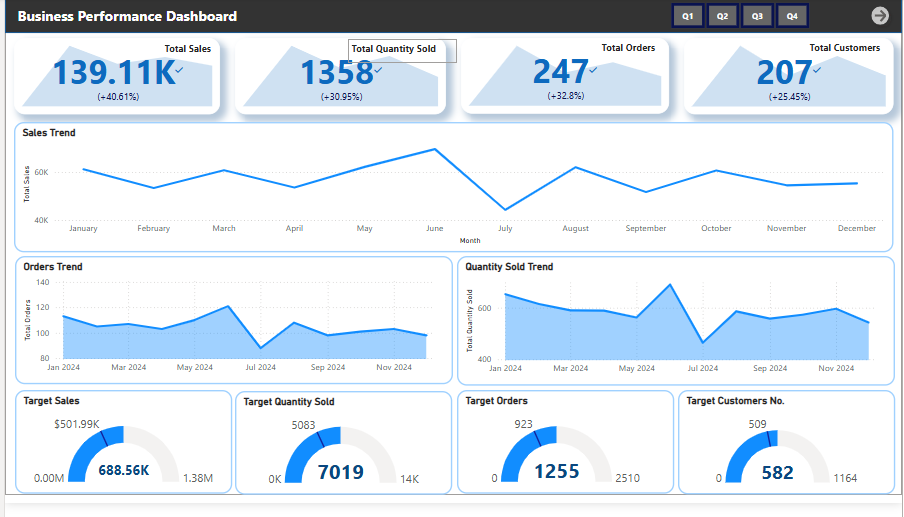

This screenshot's page, from the dashboard's own definition file:
{"tool":"powerbi","page":{"name":"KPI Page","canvas":[1280,720],"ordinal":0},"visuals":[{"type":"shape","box":[0,0,1280.1,65.9],"z":0,"group":"g6"},{"type":"kpi","fields":{"Indicator":["Sum(Sales data 2024.sales)"],"Goal":["Sum(Sales data 2023.Sales)"],"TrendLine":["Sales data 2024.product_category"]},"box":[9.8,74.4,286.8,120.8],"z":0,"group":"g2"},{"type":"kpi","fields":{"TrendLine":["Sales data 2024.product_category"],"Indicator":["Sum(Sales data 2024.quantity_sold)"],"Goal":["Sum(Sales data 2023.Quantity_Sold)"]},"box":[320,74.4,286.8,120.8],"z":0,"group":"g4"},{"type":"kpi","fields":{"TrendLine":["Sales data 2024.product_category"],"Indicator":["CountNonNull(Sales data 2024.order_id)"],"Goal":["CountNonNull(Sales data 2023.order_id)"]},"box":[630.3,74.4,286.8,120.8],"z":0,"group":"g3"},{"type":"kpi","fields":{"TrendLine":["Sales data 2024.product_category"],"Indicator":["Count(Sales data 2024.customer_id)"],"Goal":["Count(Sales data 2023.customer_id)"]},"box":[940.6,74.4,286.8,120.8],"z":0,"group":"g5"},{"type":"group","id":"g1","title":"Group 1","box":[9.8,74.4,286.8,120.8],"z":1000,"group":"g6"},{"type":"textbox","box":[412.7,76.3,181.8,26.8],"z":1000,"group":"g4"},{"type":"textbox","box":[172.8,77.8,112,28],"z":1000,"group":"g2"},{"type":"textbox","box":[785.9,77.8,118.7,29.3],"z":1000,"group":"g3"},{"type":"textbox","box":[1057.1,77.8,158.7,32],"z":1000,"group":"g5"},{"type":"group","id":"g2","title":"Group 2","box":[9.8,74.4,286.8,120.8],"z":1002,"group":"g1"},{"type":"group","id":"g3","title":"Group 2","box":[630.3,74.4,286.8,120.8],"z":2000,"group":"g6"},{"type":"group","id":"g4","title":"Group 2","box":[320,74.4,286.8,120.8],"z":3000,"group":"g6"},{"type":"group","id":"g5","title":"Group 2","box":[940.6,74.4,286.8,120.8],"z":4000,"group":"g6"},{"type":"areaChart","title":"Total Sales","fields":{"Category":["Sales data 2024.date.Variation.Date Hierarchy.Year","Sales data 2024.date.Variation.Date Hierarchy.Quarter","Sales data 2024.date.Variation.Date Hierarchy.Month","Sales data 2024.date.Variation.Date Hierarchy.Day"],"Y":["Sum(Sales data 2024.sales)"]},"box":[0,200,1270.7,146.7],"z":5000,"group":"g6"},{"type":"areaChart","title":"Total Orders Sold by months","fields":{"Category":["Sales data 2024.date.Variation.Date Hierarchy.Year","Sales data 2024.date.Variation.Date Hierarchy.Quarter","Sales data 2024.date.Variation.Date Hierarchy.Month","Sales data 2024.date.Variation.Date Hierarchy.Day"],"Y":["CountNonNull(Sales data 2024.order_id)"]},"box":[9.3,360,621.3,156],"z":6000,"group":"g6"},{"type":"areaChart","title":"Total Quantity Sold by months","fields":{"Category":["Sales data 2024.date.Variation.Date Hierarchy.Year","Sales data 2024.date.Variation.Date Hierarchy.Quarter","Sales data 2024.date.Variation.Date Hierarchy.Month","Sales data 2024.date.Variation.Date Hierarchy.Day"],"Y":["Sum(Sales data 2024.quantity_sold)"]},"box":[664,360,606.7,156],"z":7000,"group":"g6"},{"type":"gauge","title":"Total Sales in 2024 Vs target","fields":{"Y":["Sum(Sales data 2024.sales)"],"TargetValue":["Sum(Sales data 2023.Sales)"]},"box":[0,530.7,284,153.3],"z":8000,"group":"g6"},{"type":"gauge","title":"Total Quantitity sold in 2024 Vs target","fields":{"Y":["Sum(Sales data 2024.quantity_sold)"],"TargetValue":["Sum(Sales data 2023.Quantity_Sold)"]},"box":[319.6,530.7,284,153.3],"z":9000,"group":"g6"},{"type":"gauge","title":"Total Orders in 2024 Vs target","fields":{"Y":["CountNonNull(Sales data 2024.order_id)"],"TargetValue":["CountNonNull(Sales data 2023.order_id)"]},"box":[639.1,530.7,284,153.3],"z":10000,"group":"g6"},{"type":"gauge","title":"Total Customers in 2024 Vs target","fields":{"Y":["Count(Sales data 2024.customer_id)"],"TargetValue":["Count(Sales data 2023.customer_id)"]},"box":[968,530.7,284,153.3],"z":11000,"group":"g6"},{"type":"textbox","box":[0,0,404,65.3],"z":12000,"group":"g6"},{"type":"slicer","fields":{"Values":["Sales data 2024.Quarter"]},"box":[431.2,16.2,582.5,48.8],"z":13000,"group":"g6"},{"type":"actionButton","box":[1171.2,12.5,55,42.5],"z":13001,"group":"g6"},{"type":"group","id":"g6","title":"Group 3","box":[0,0,1280.1,684],"z":13002}]}

Visuals, with their boxes in screenshot pixels (x1, y1, x2, y2), scaled from the page's 1280x720 canvas onto the 904x517 screenshot:
shape: locate(0, 0, 903, 47)
kpi - Sum(Sales data 2024.sales) x Sum(Sales data 2023.Sales): locate(7, 53, 209, 140)
kpi - Sales data 2024.product_category x Sum(Sales data 2024.quantity_sold): locate(226, 53, 429, 140)
kpi - Sales data 2024.product_category x CountNonNull(Sales data 2024.order_id): locate(445, 53, 648, 140)
kpi - Sales data 2024.product_category x Count(Sales data 2024.customer_id): locate(664, 53, 867, 140)
"Group 1" group: locate(7, 53, 209, 140)
textbox: locate(291, 55, 420, 74)
textbox: locate(122, 56, 201, 76)
textbox: locate(555, 56, 639, 77)
textbox: locate(747, 56, 859, 79)
"Group 2" group: locate(7, 53, 209, 140)
"Group 2" group: locate(445, 53, 648, 140)
"Group 2" group: locate(226, 53, 429, 140)
"Group 2" group: locate(664, 53, 867, 140)
"Total Sales" areaChart: locate(0, 144, 897, 249)
"Total Orders Sold by months" areaChart: locate(7, 258, 445, 371)
"Total Quantity Sold by months" areaChart: locate(469, 258, 897, 371)
"Total Sales in 2024 Vs target" gauge: locate(0, 381, 201, 491)
"Total Quantitity sold in 2024 Vs target" gauge: locate(226, 381, 426, 491)
"Total Orders in 2024 Vs target" gauge: locate(451, 381, 652, 491)
"Total Customers in 2024 Vs target" gauge: locate(684, 381, 884, 491)
textbox: locate(0, 0, 285, 47)
slicer - Sales data 2024.Quarter: locate(305, 12, 716, 47)
actionButton: locate(827, 9, 866, 39)
"Group 3" group: locate(0, 0, 903, 491)
